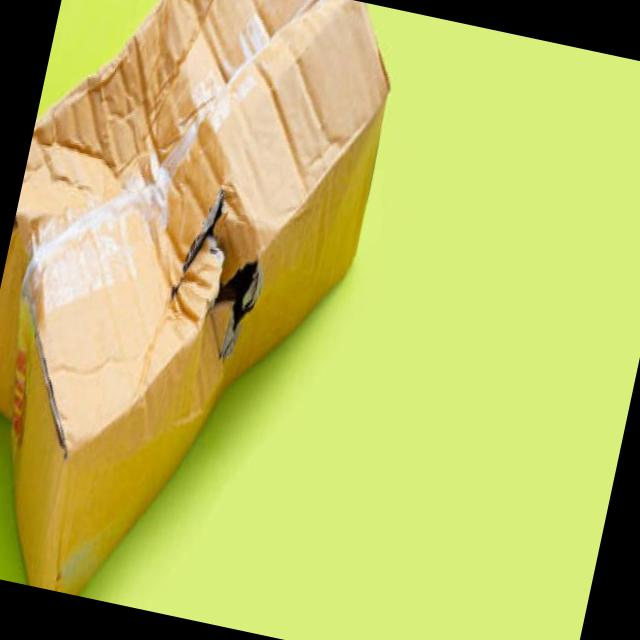box: (0, 0, 388, 640)
crushed: (29, 33, 187, 202), (232, 0, 364, 175)
opened: (158, 185, 268, 361)
